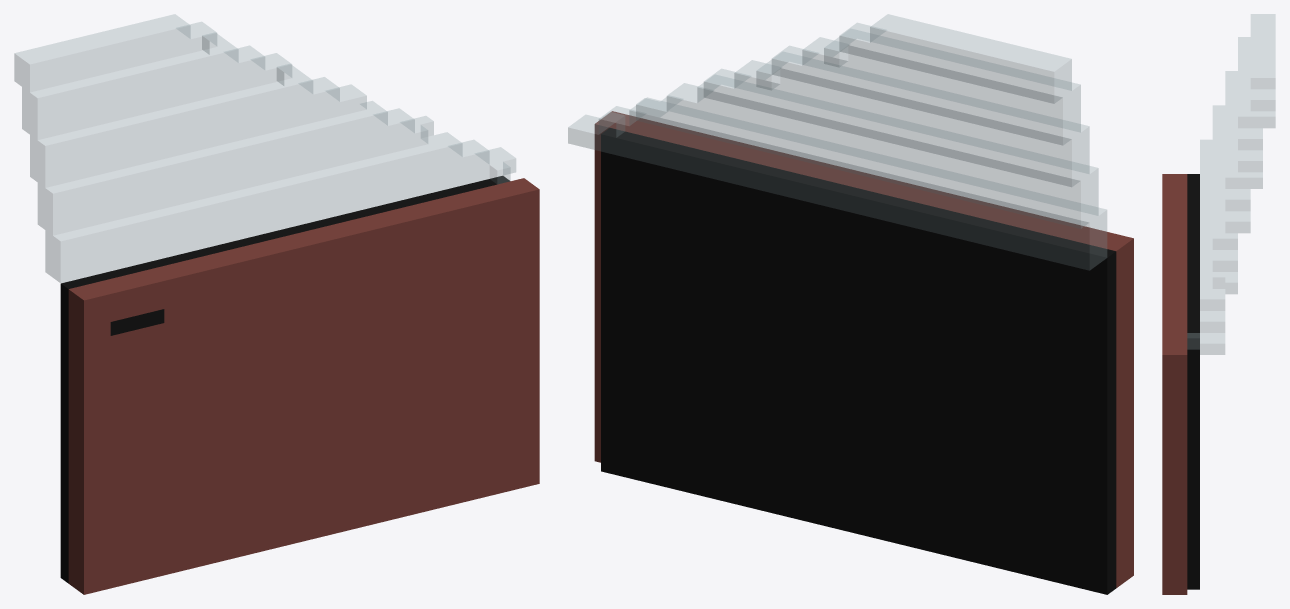
Rendered from estate_front_door.glb.
3 views of the same model, side by side, from view 1: azimuth 30°, elevation 25°; view 2: azimuth 150°, elevation 25°; view 3: azimuth 270°, elevation 25° (orthographic). The views are drawn at different scales.
Visible parts, largest first — view 1: body:compound; view 2: body:compound; view 3: body:compound.
Boxes of the visible parts, x1,y1,x2,y2 form: body:compound: (14, 14, 539, 594); body:compound: (568, 14, 1133, 594); body:compound: (1162, 14, 1275, 594).
Size of the model in its own units: 1.06 by 1.09 by 0.2812.
